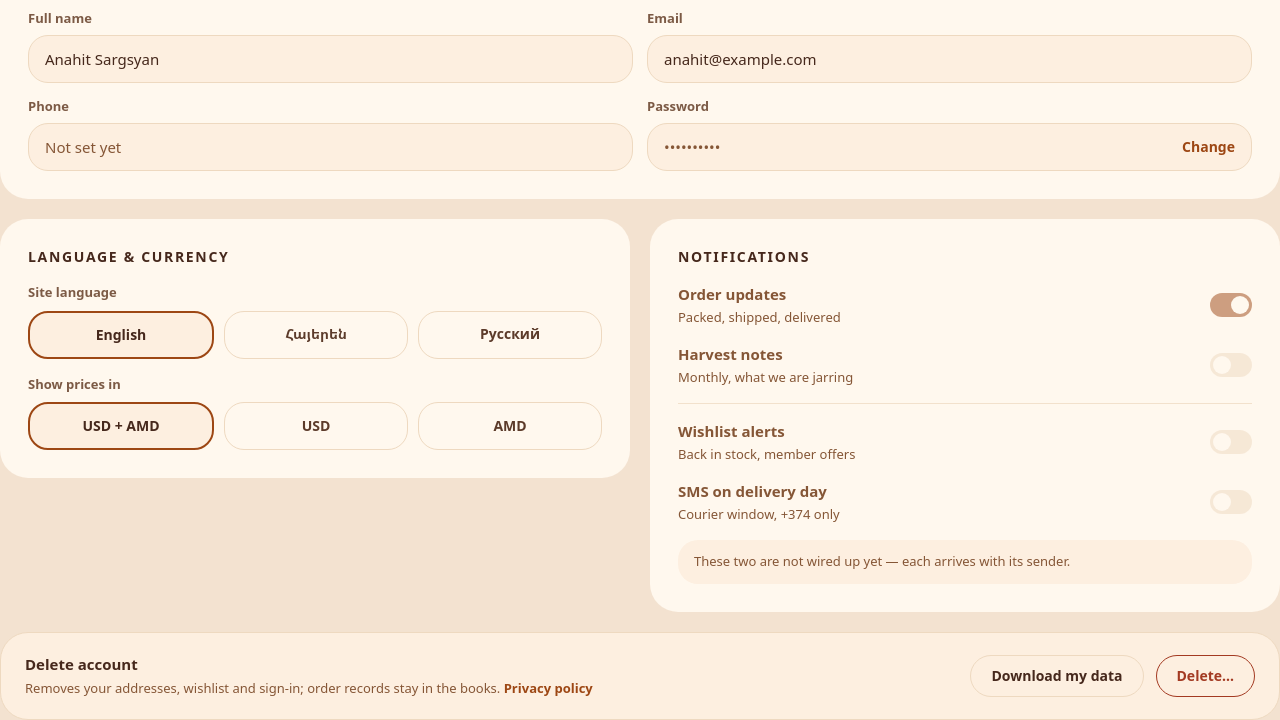
SettingsPage › delete opens a confirm area instead of deleting
(page scrolled)
Click the button "Delete…" at (1205, 676), box [1156,655,1255,697]
(page scrolled)
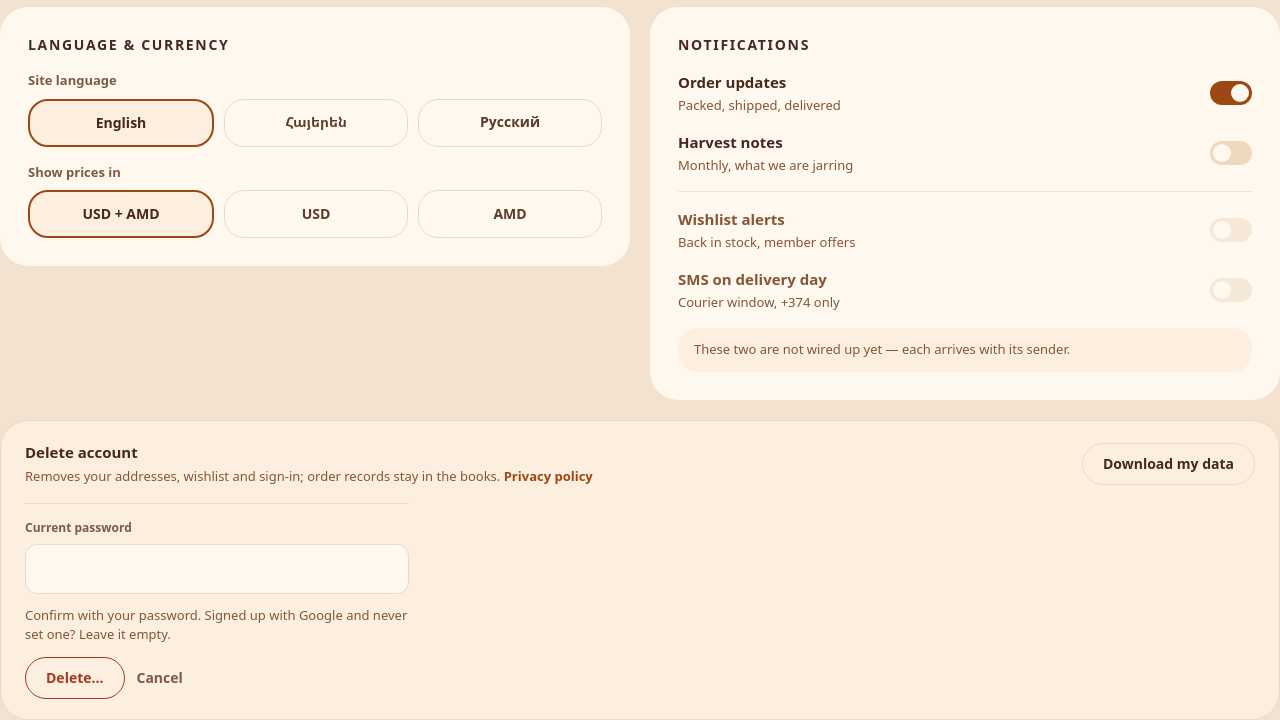
Result: the password field labelled "Current password" is shown at [25,544,409,594]
